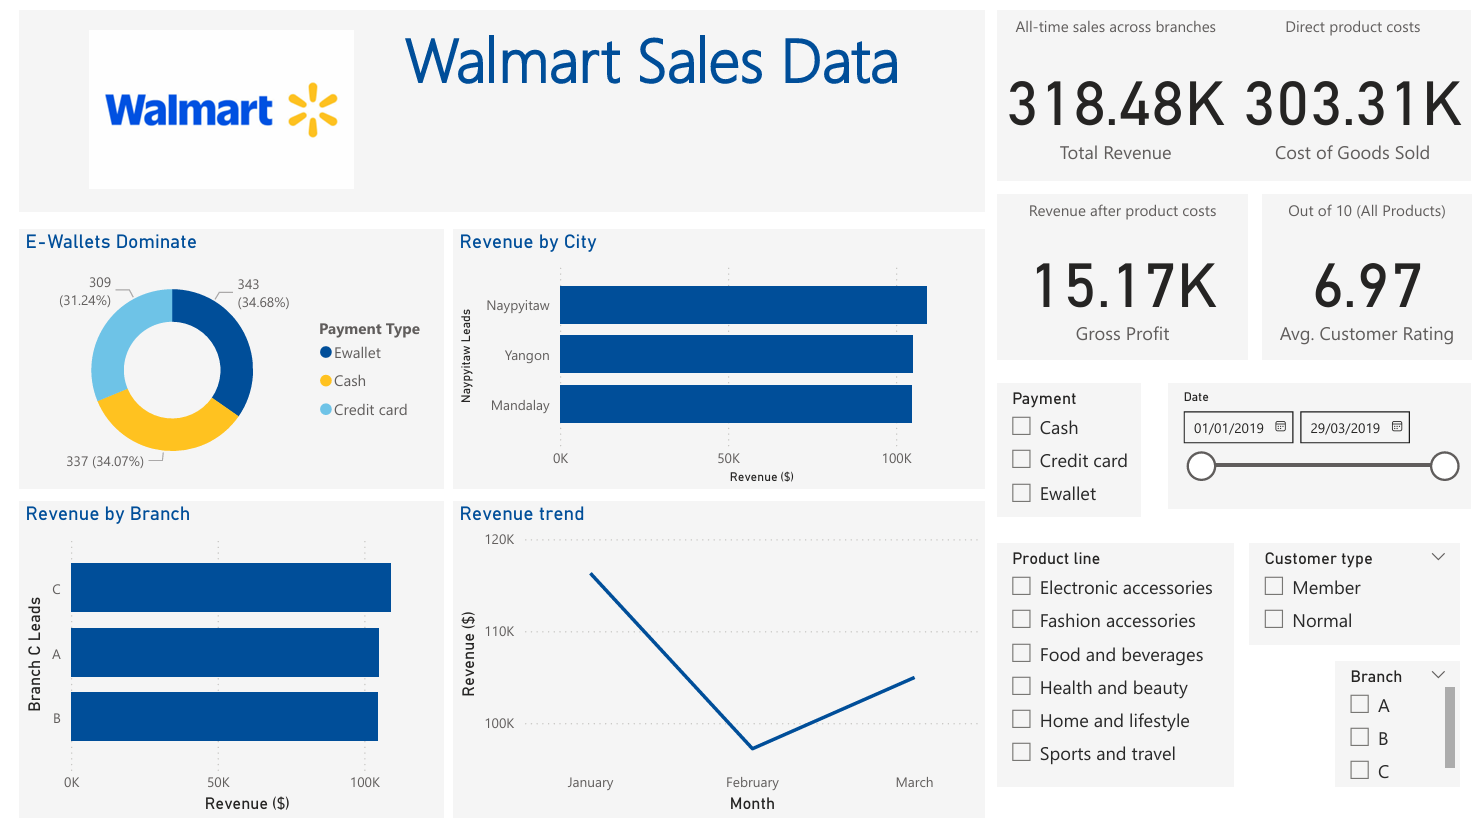

This screenshot's page, from the dashboard's own definition file:
{"tool":"powerbi","page":{"name":"Sales Performance and Customer Insights","canvas":[1280,720],"ordinal":0},"visuals":[{"type":"textbox","box":[9,4,845,176],"z":0},{"type":"image","box":[65,15,241,153],"z":1000},{"type":"card","fields":{"Values":["Sum(WalmartSalesData.Total)"]},"box":[865,4,207,149],"z":2000},{"type":"card","fields":{"Values":["Sum(WalmartSalesData.cogs)"]},"box":[1072,4,208,149],"z":3000},{"type":"card","fields":{"Values":["Sum(WalmartSalesData.gross income)"]},"box":[865,165,219,145],"z":4000},{"type":"card","fields":{"Values":["Avg(WalmartSalesData.Rating)"]},"box":[1097,165,183,145],"z":5000},{"type":"barChart","title":"Revenue by Branch","fields":{"Category":["WalmartSalesData.Branch"],"Y":["Sum(WalmartSalesData.Total)"]},"box":[9,434,372,277],"z":6000},{"type":"barChart","title":"Revenue by City","fields":{"Category":["WalmartSalesData.City"],"Y":["Sum(WalmartSalesData.Total)"]},"box":[389,196,465,227],"z":7000},{"type":"lineChart","title":"Revenue trend ","fields":{"Category":["WalmartSalesData.Date.Variation.Date Hierarchy.Month"],"Y":["Sum(WalmartSalesData.Total)"]},"box":[389,434,465,277],"z":8000},{"type":"donutChart","title":"E-Wallets Dominate","fields":{"Category":["WalmartSalesData.Payment"],"Y":["CountNonNull(WalmartSalesData.Invoice ID)"]},"box":[9,196,372,227],"z":9000},{"type":"slicer","fields":{"Values":["WalmartSalesData.Date"]},"box":[1015,331,265,110],"z":10000},{"type":"slicer","fields":{"Values":["WalmartSalesData.Branch"]},"box":[1161,574,109,110],"z":11000},{"type":"slicer","fields":{"Values":["WalmartSalesData.Product line"]},"box":[865,471,207,213],"z":12000},{"type":"slicer","fields":{"Values":["WalmartSalesData.Customer type"]},"box":[1086,471,184,89],"z":13000},{"type":"slicer","fields":{"Values":["WalmartSalesData.Payment"]},"box":[865,331,126,117],"z":14000}]}

Visuals, with their boxes in screenshot pixels (x1, y1, x2, y2), scaled from the page's 1280x720 canvas onto the 1483x840 screenshot:
textbox: bbox=(10, 5, 989, 210)
image: bbox=(75, 18, 355, 196)
card - Sum(WalmartSalesData.Total): bbox=(1002, 5, 1242, 178)
card - Sum(WalmartSalesData.cogs): bbox=(1242, 5, 1482, 178)
card - Sum(WalmartSalesData.gross income): bbox=(1002, 192, 1256, 362)
card - Avg(WalmartSalesData.Rating): bbox=(1271, 192, 1482, 362)
"Revenue by Branch" barChart: bbox=(10, 506, 441, 830)
"Revenue by City" barChart: bbox=(451, 229, 989, 494)
"Revenue trend " lineChart: bbox=(451, 506, 989, 830)
"E-Wallets Dominate" donutChart: bbox=(10, 229, 441, 494)
slicer - WalmartSalesData.Date: bbox=(1176, 386, 1482, 514)
slicer - WalmartSalesData.Branch: bbox=(1345, 670, 1471, 798)
slicer - WalmartSalesData.Product line: bbox=(1002, 550, 1242, 798)
slicer - WalmartSalesData.Customer type: bbox=(1258, 550, 1471, 653)
slicer - WalmartSalesData.Payment: bbox=(1002, 386, 1148, 523)
